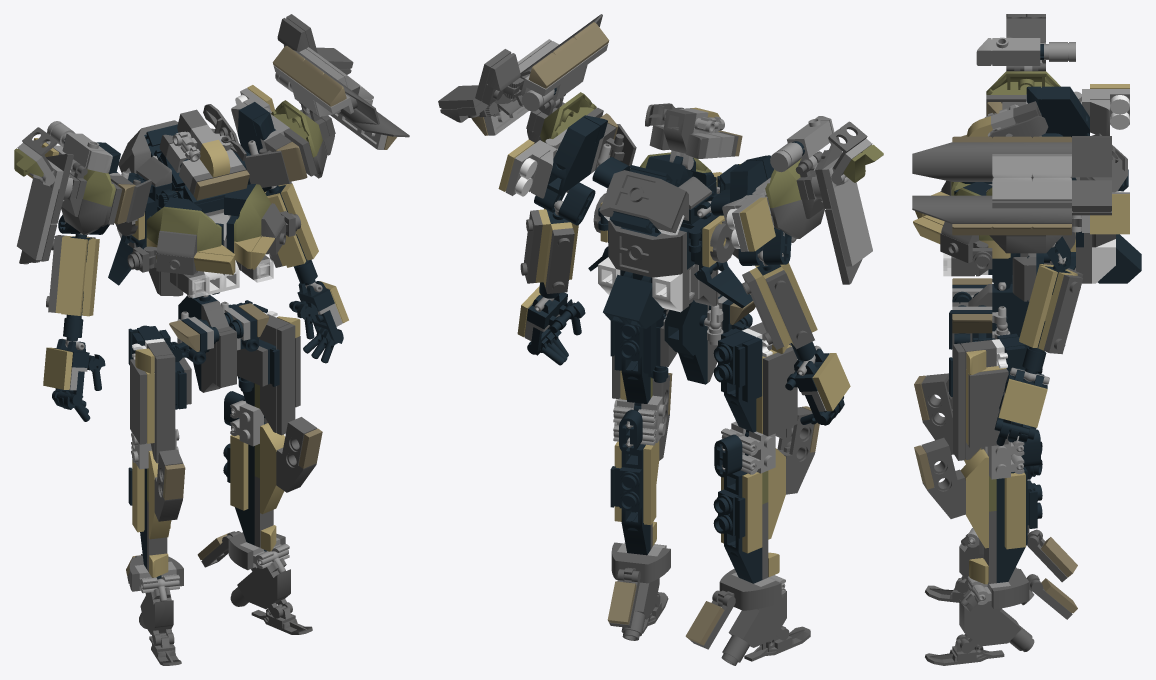
File: sap-03t-oryx.dae
3 renders of one model, left to right at view 1: azimuth 30°, elevation 25°; view 2: azimuth 150°, elevation 25°; view 3: azimuth 270°, elevation 25°, orthographic. The views are drawn at different scales.
Size of the model in its own units: 434 by 230 by 622.
